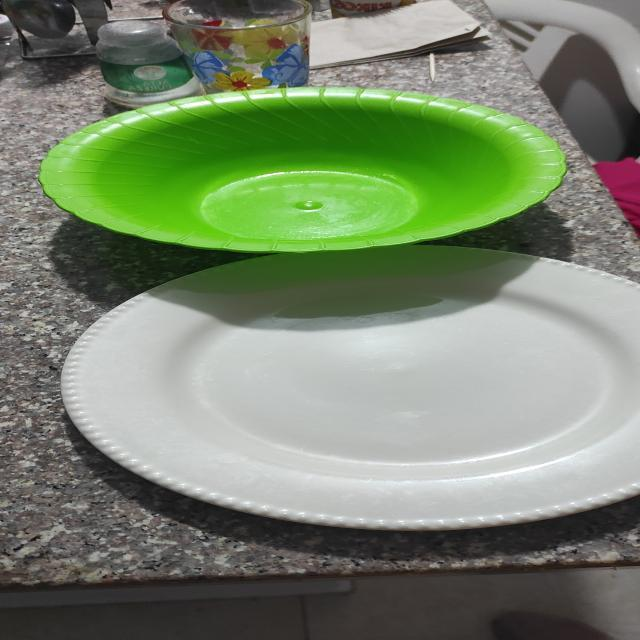ceramic plate: (70, 253, 608, 558)
